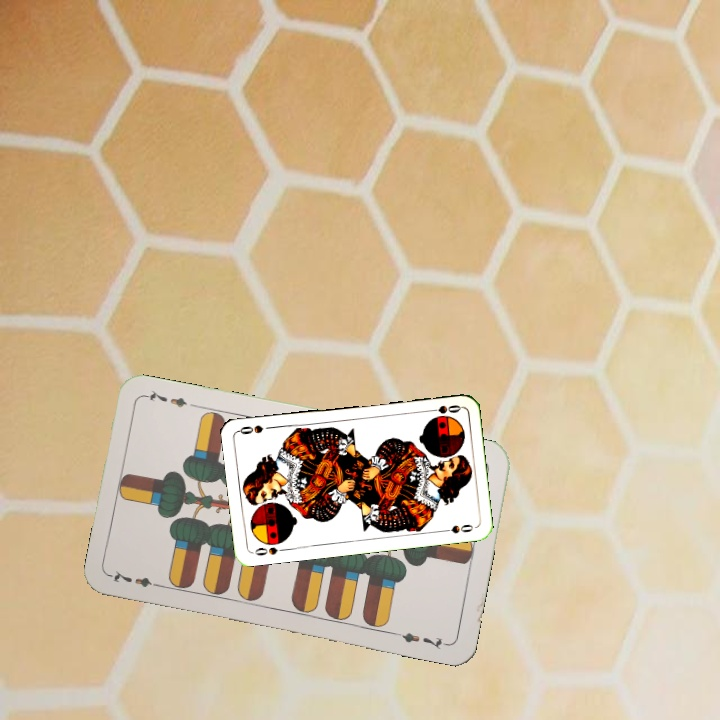E7: (107, 567, 166, 591)
SO: (423, 401, 463, 419), (251, 543, 289, 558)
